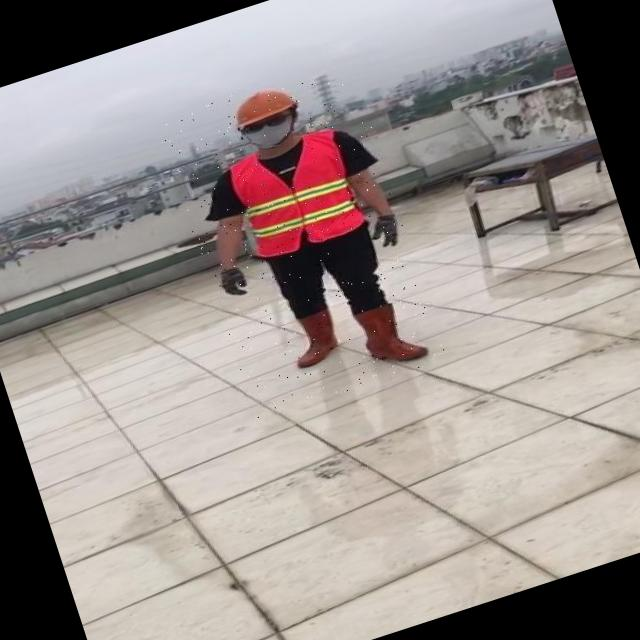hard_hat: (224, 77, 301, 132)
safety_vest: (222, 124, 372, 264)
vehicle: (154, 54, 448, 422)
work_boots: (357, 289, 443, 372), (281, 306, 350, 373)
